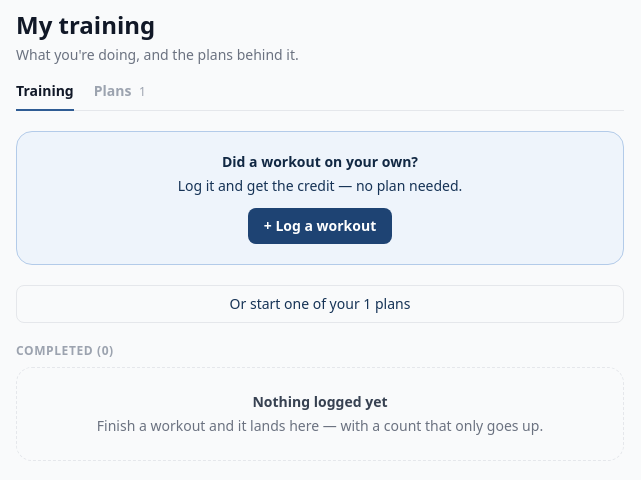
Test case: MyWorkoutsView (SB-332) › lets a user who is nobody’s athlete use the screen
Expected: the link with test id "log-adhoc" is shown, [248, 208, 392, 244]
Click the tab with test id "tab-plans" at [120, 96], box [94, 81, 146, 111]
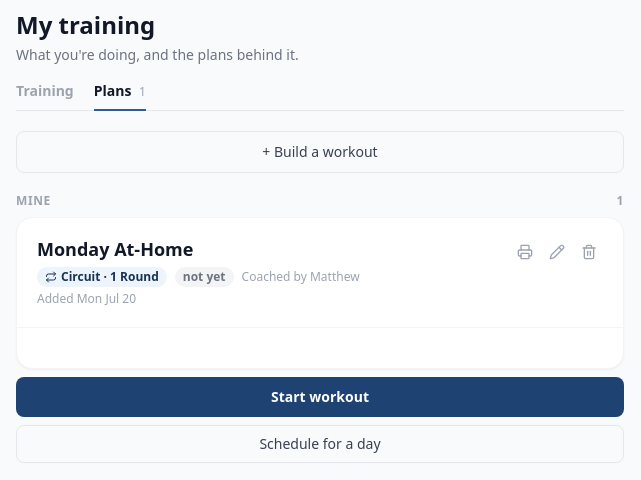
Now the text "Monday At-Home" is shown, box [37, 237, 193, 261]
